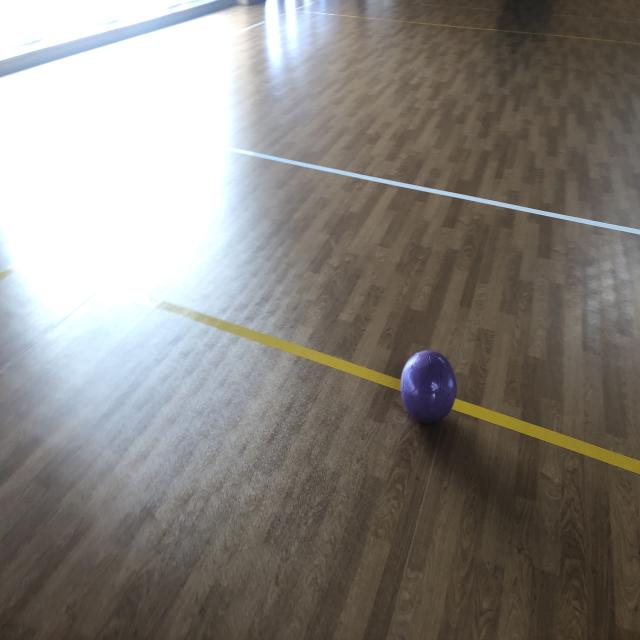purple_ball: (398, 350, 460, 428)
